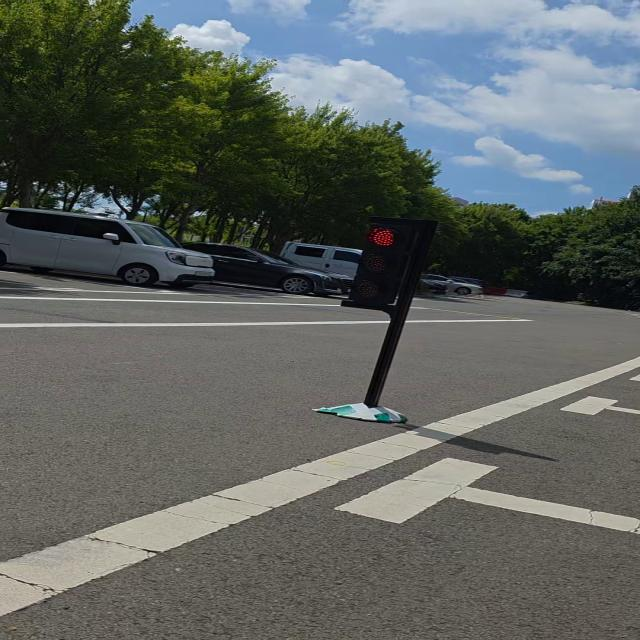red: (340, 208, 420, 314)
